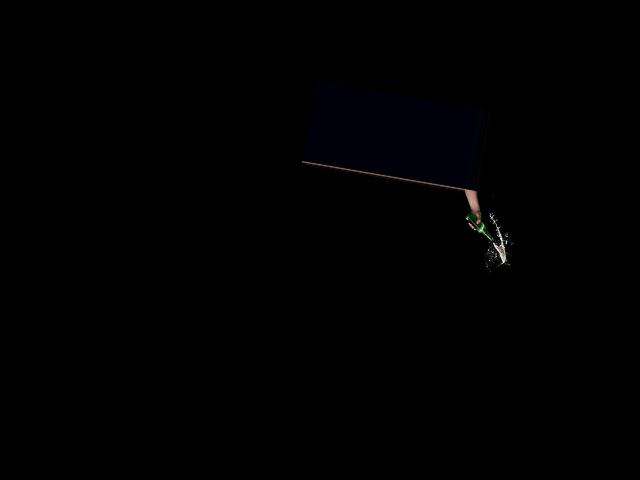beer: (461, 211, 496, 241)
